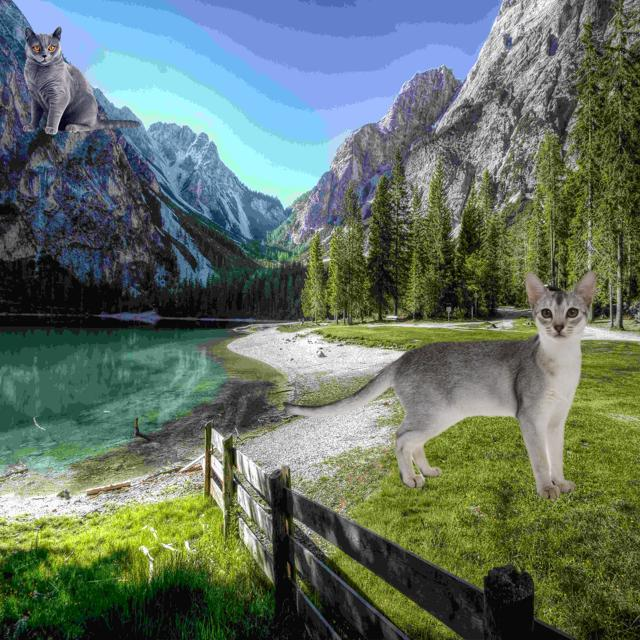cat: (270, 262, 621, 509), (14, 22, 141, 137)
